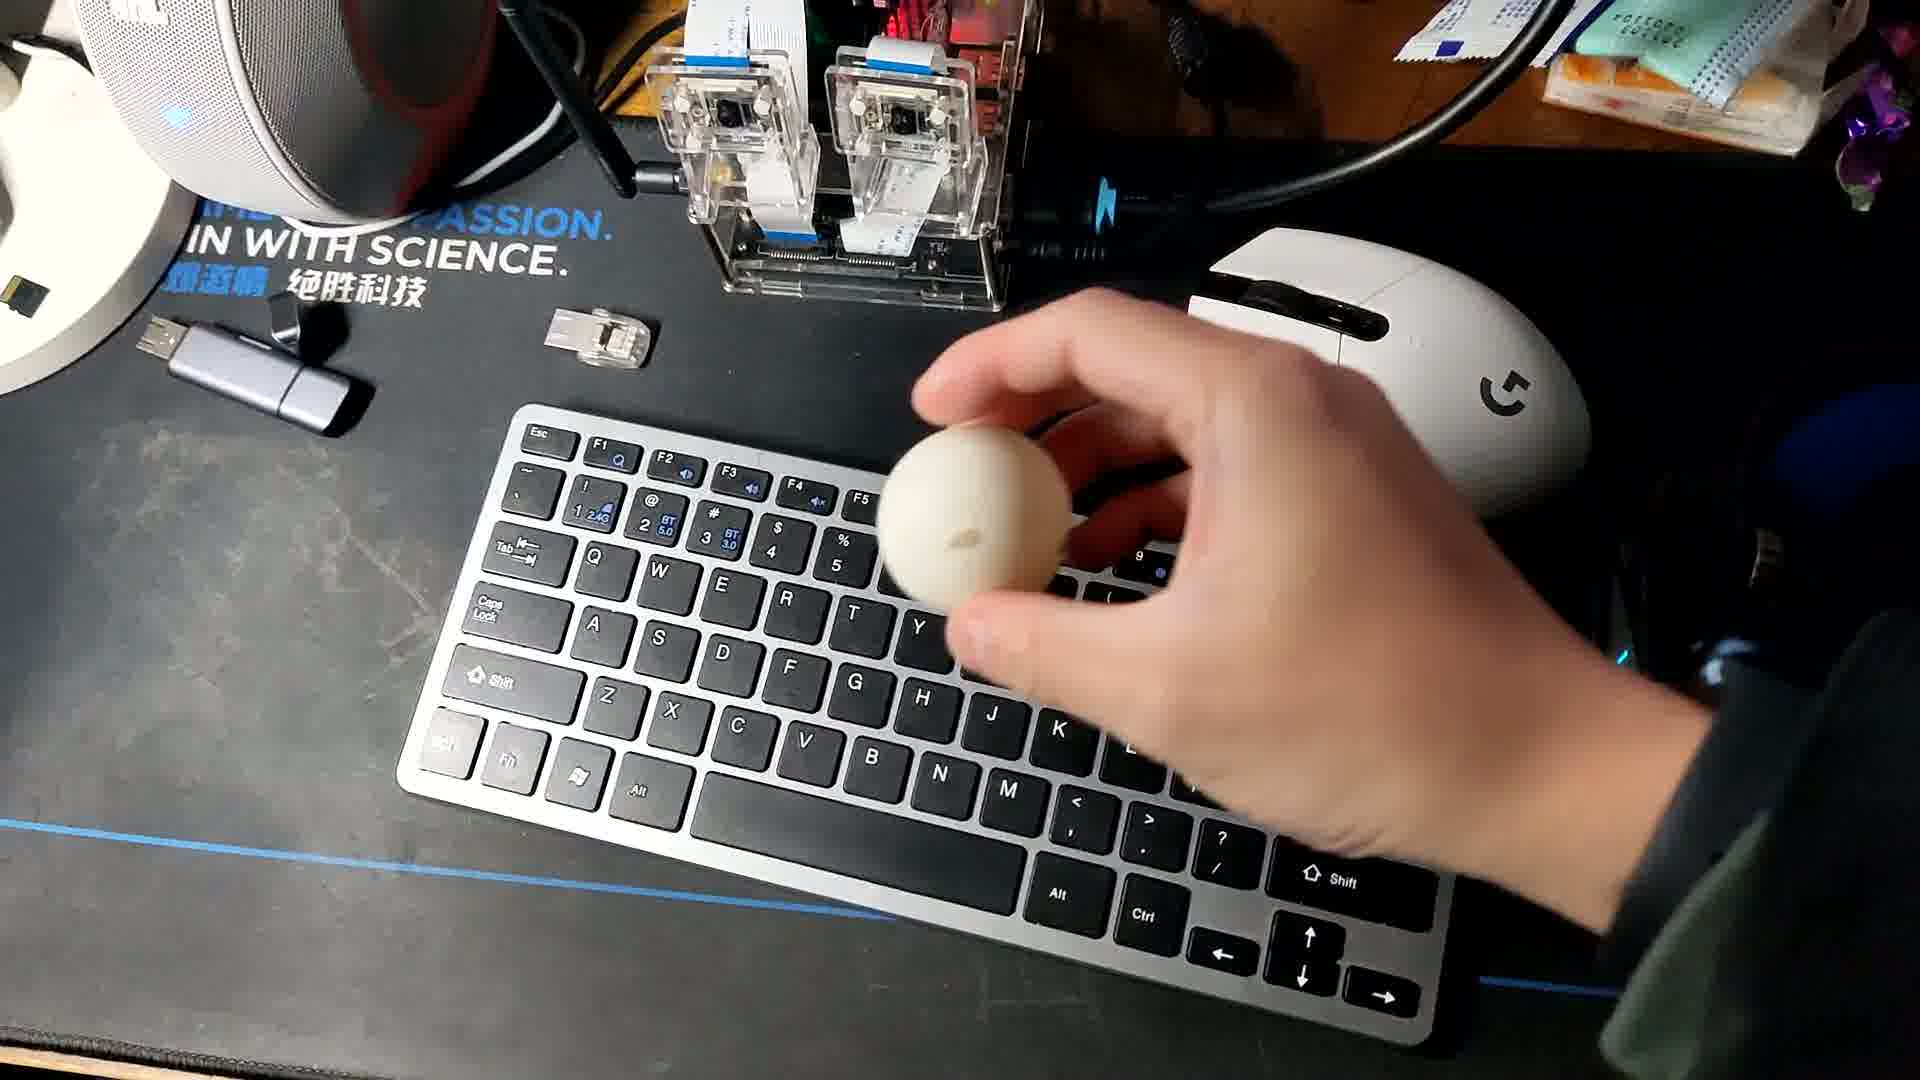Ball: (873, 426, 1076, 622)
